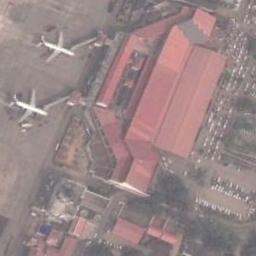Airplane: (7, 84, 52, 128), (37, 29, 77, 64)
